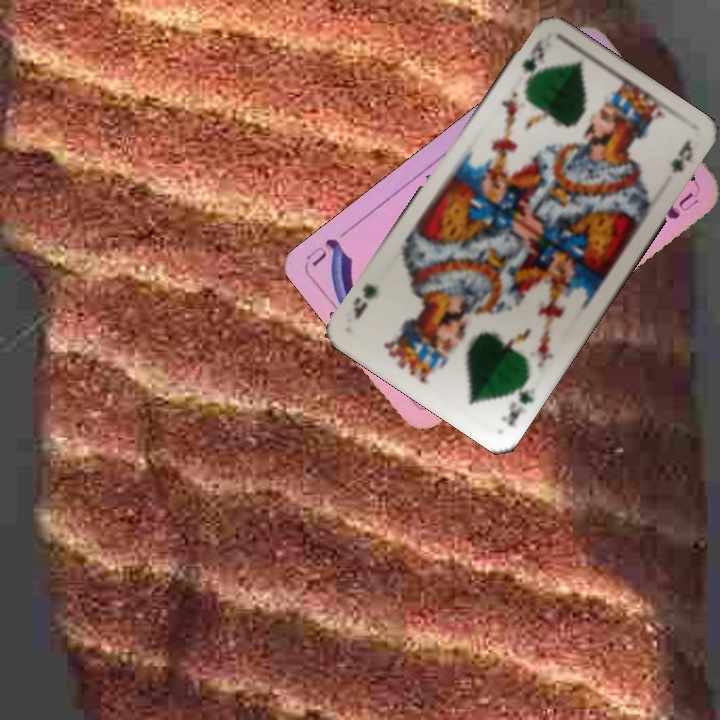GK: (497, 374, 539, 429), (518, 34, 546, 76)
